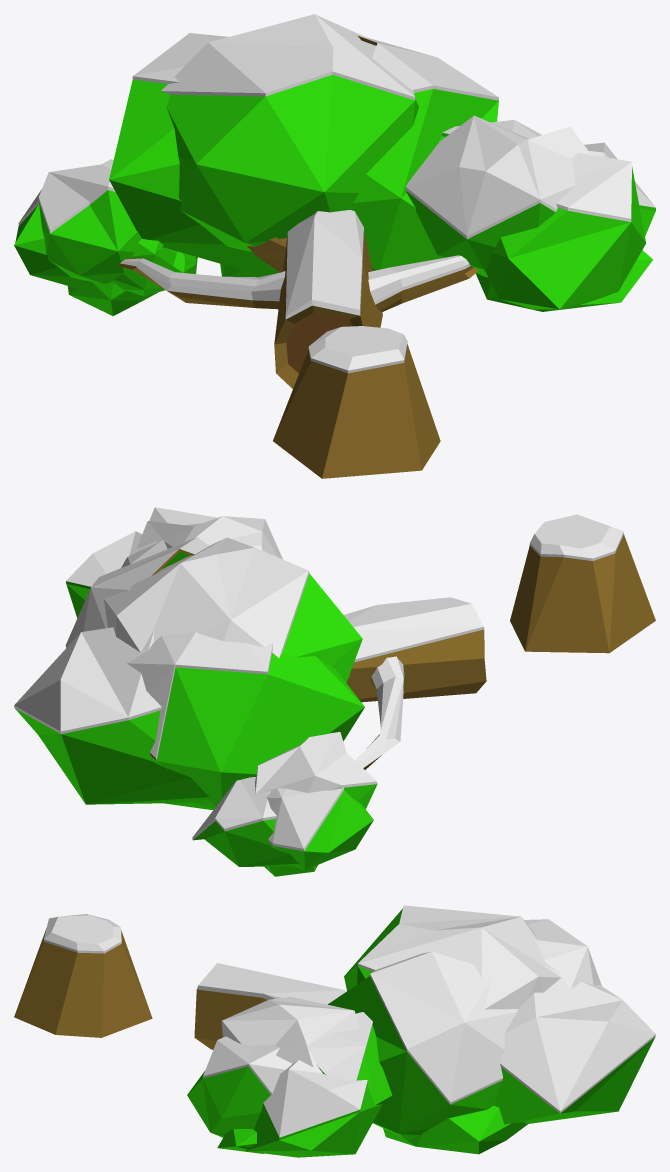
File: Tree#13_Snow.fbx
3 renders of one model, top to bottom at view 1: azimuth 30°, elevation 25°; view 2: azimuth 150°, elevation 25°; view 3: azimuth 270°, elevation 25°, orthographic. The views are drawn at different scales.
Visible parts, largest first — view 1: Tree#13_Snow; view 2: Tree#13_Snow; view 3: Tree#13_Snow.
Boxes of the visible parts, x1=… form: Tree#13_Snow: x1=14, y1=14, x2=655, y2=478; Tree#13_Snow: x1=14, y1=507, x2=655, y2=876; Tree#13_Snow: x1=14, y1=905, x2=655, y2=1157.
Bounding box in the file's own units: 907 × 500 × 1276.
